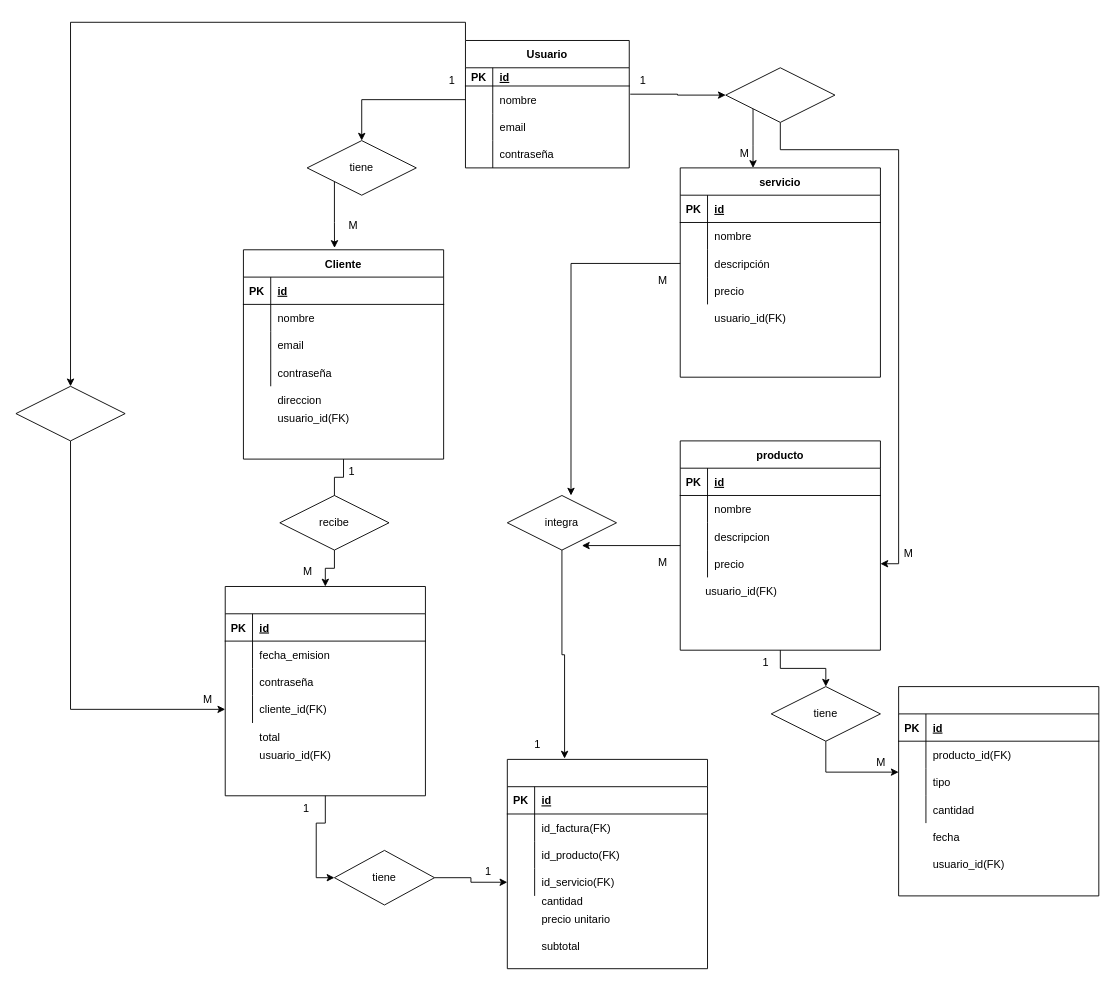
Some shapes in this 1115 by 985 pixel diagram are drawn without their labels. Each missing label, with the box of its shape:
Detalle_Factura: (506, 758, 708, 969)
emite: (15, 385, 125, 441)
Factura: (224, 586, 425, 796)
movimiento_stock: (898, 686, 1099, 896)
ofrece: (725, 67, 835, 122)
